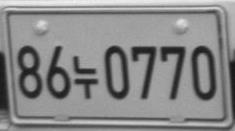0: (190, 44, 217, 101), (104, 44, 130, 100)
6: (46, 45, 71, 99)
7: (130, 45, 157, 99), (159, 45, 186, 99)
8: (16, 44, 43, 99)
누: (73, 55, 99, 99)
